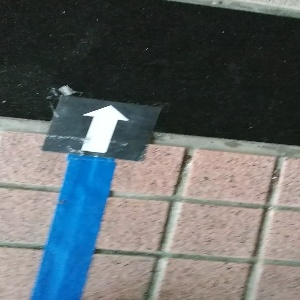straight: (43, 96, 160, 161)
